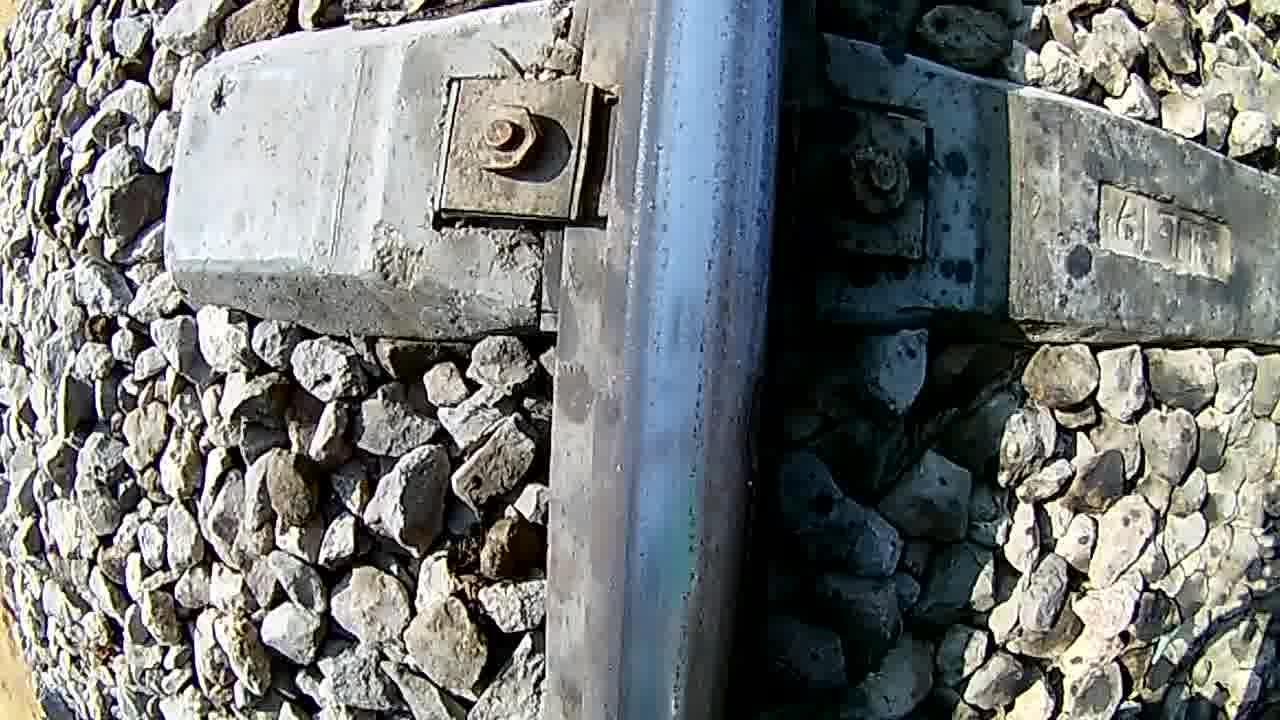crack: (622, 0, 774, 720)
